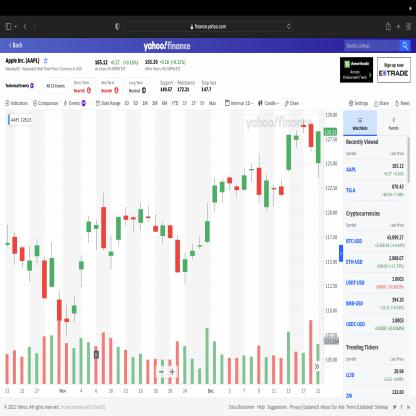Bullish Abandoned Baby: (100, 190, 122, 274)
Bullish Kicker: (278, 131, 292, 199)
